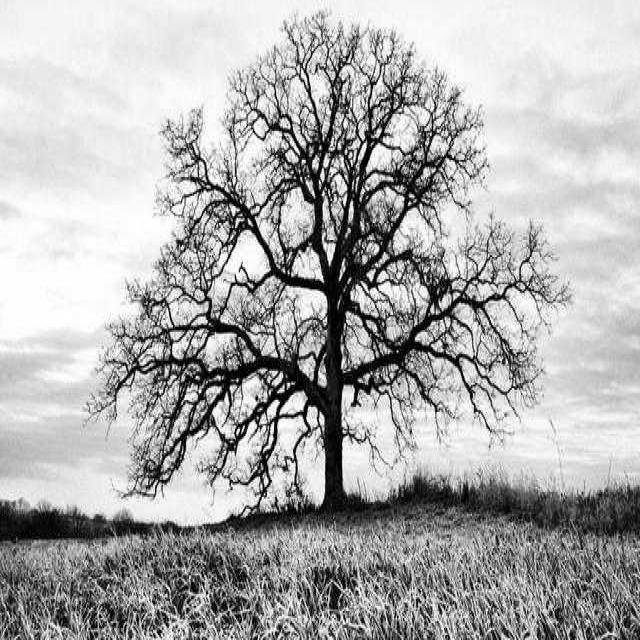Tree: (88, 13, 570, 507)
